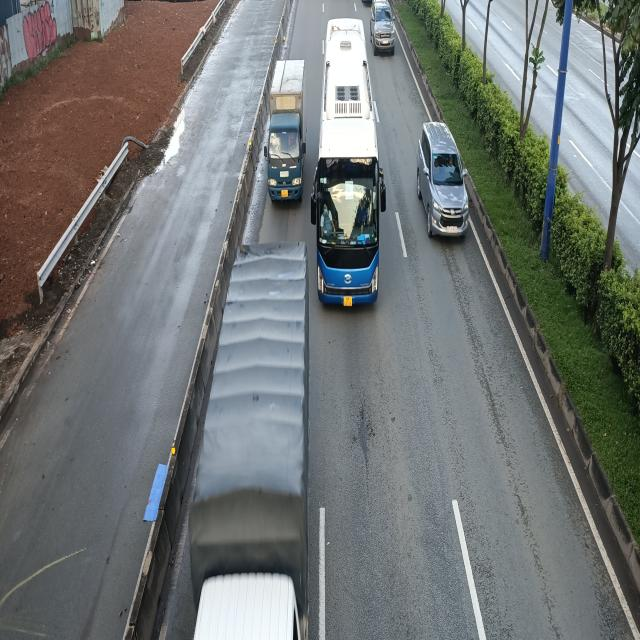car: (415, 125, 468, 242), (371, 1, 396, 56)
coach: (310, 18, 382, 310)
truck: (148, 246, 316, 640), (263, 58, 306, 206)
